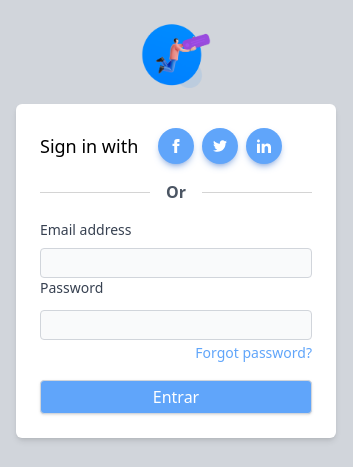
it: Sign in › should show error messages with invalid credentials
Type "invalid-email" into the field named "email". click: (176, 263)
box: [40, 248, 312, 278]
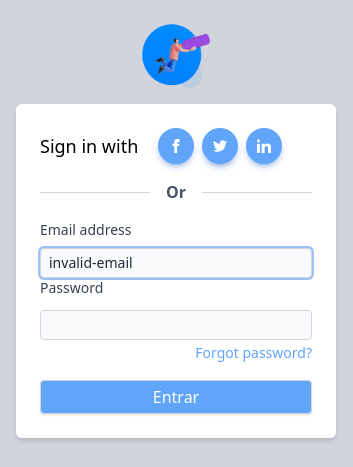
Type "invalid-password" into the password field named "password". click: (176, 325)
box: [40, 310, 312, 340]
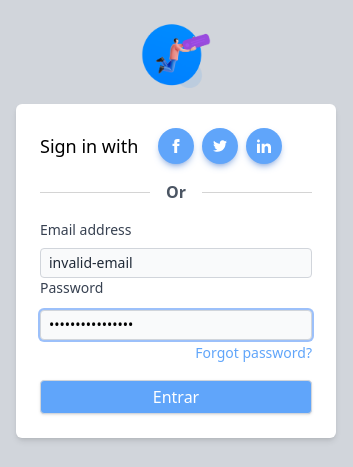
Click the submit button. click: (176, 397)
box: [40, 380, 312, 414]
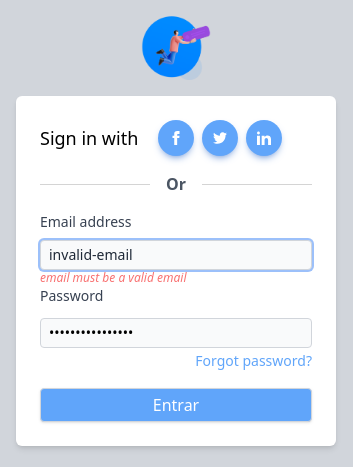
Expected: the text "email must be a valid email" is shown, [40, 268, 186, 286]
